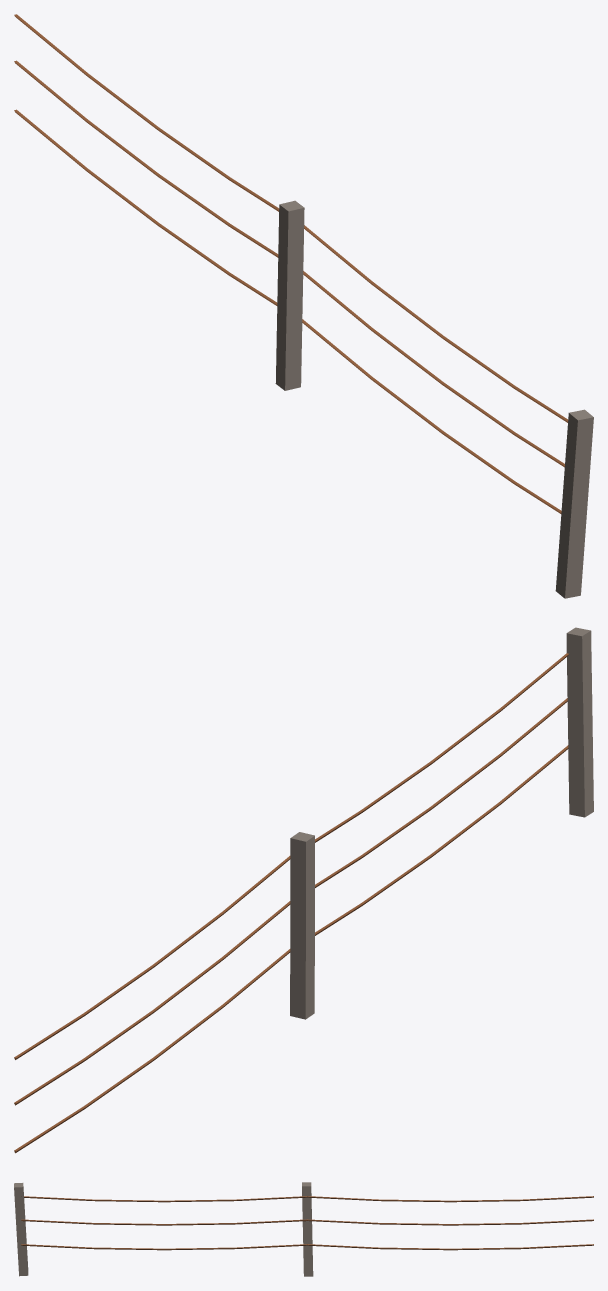
Rendered from fence.glb.
3 views of the same model, one above another, from view 1: azimuth 30°, elevation 25°; view 2: azimuth 150°, elevation 25°; view 3: azimuth 270°, elevation 25° (orthographic). The views are drawn at different scales.
Visible parts, largest first — view 1: fence; view 2: fence; view 3: fence.
Part boxes in pixels (bbox=[...]): fence: bbox=[14, 14, 593, 598]; fence: bbox=[14, 627, 593, 1153]; fence: bbox=[14, 1182, 593, 1276].
Bounding box in the file's own units: 0.195 × 1.41 × 8.1.
